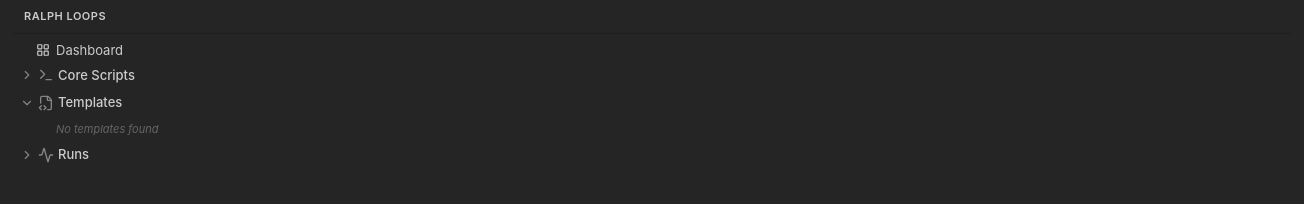
Test: RalphSidebar › Runs section toggling
This screenshot has width=1304, height=204.
Note: Click to expand
Click the button "Runs" at x=74, y=154, box x1=12 y1=141 x2=1292 y2=168
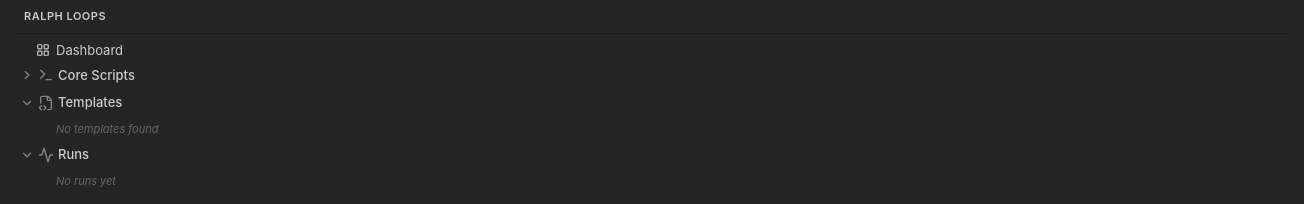
Check: the element with class "sidebar-section-items" showing "No runs yet" is shown, box x1=56 y1=174 x2=116 y2=188
